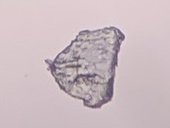microplastic: (44, 26, 126, 109)
